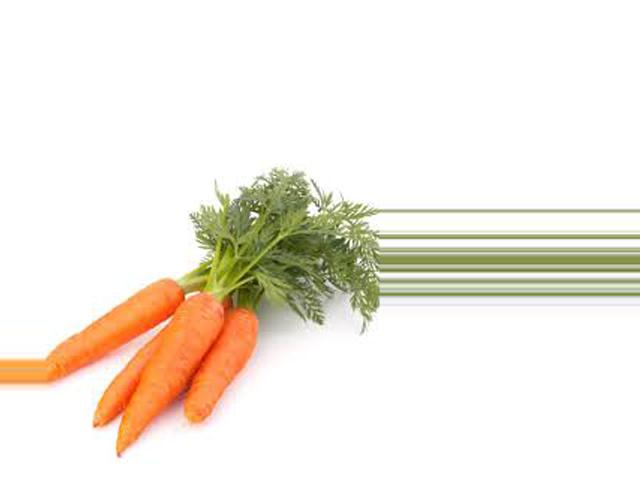carrot: (176, 294, 261, 437)
